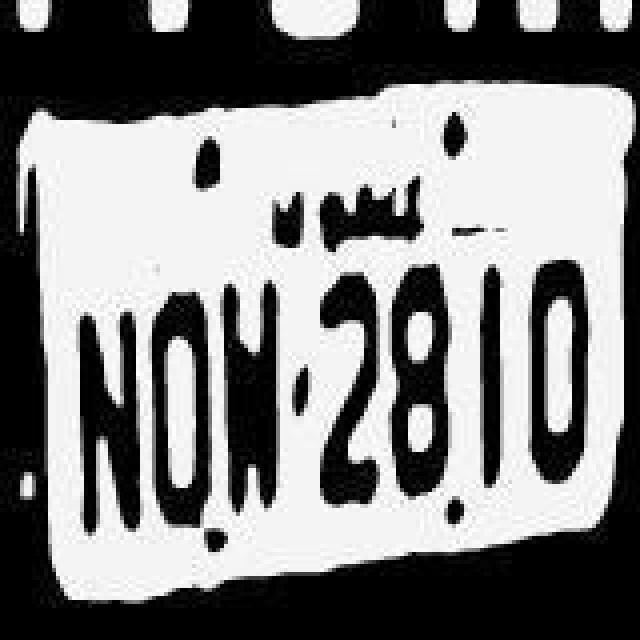1: (466, 254, 510, 506)
2: (312, 250, 384, 518)
8: (390, 260, 458, 508)
N: (62, 284, 146, 548)
O: (524, 246, 596, 506), (144, 276, 216, 532)
W: (220, 276, 292, 524)
